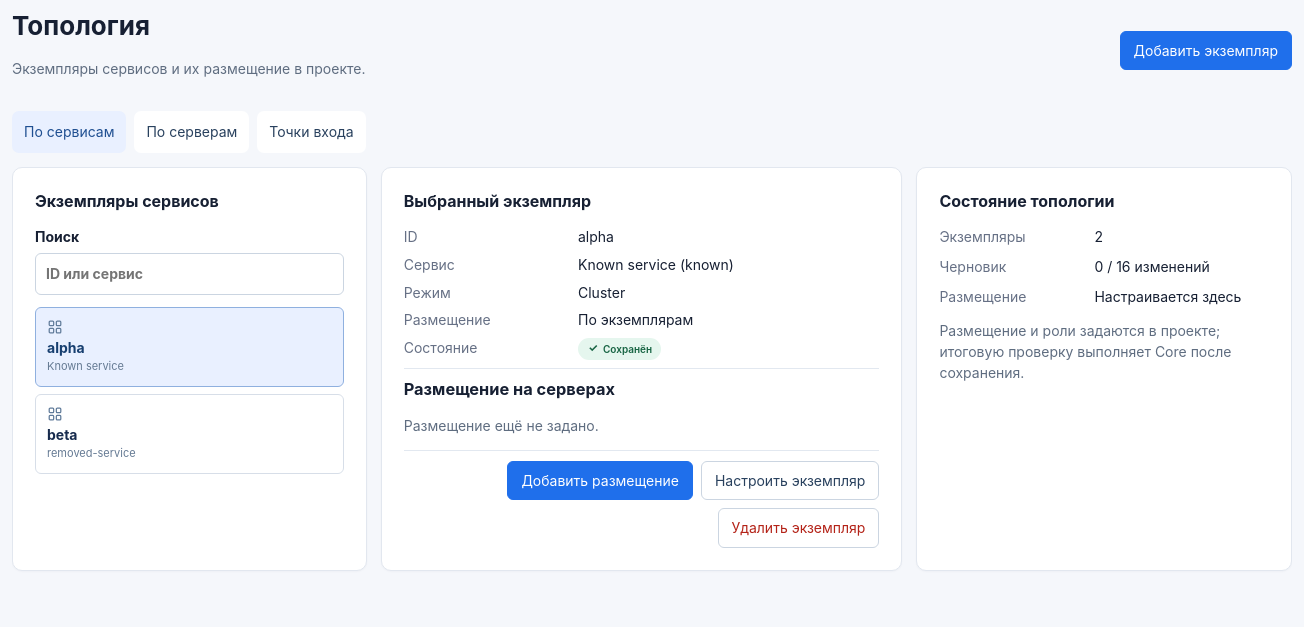
Test: UI-01F3 TopologyPage › keeps explicit selection while search temporarily hides it
This screenshot has width=1304, height=627.
Click the button "beta removed-service": (62, 434) top-left (35, 394), bottom-right (344, 474)
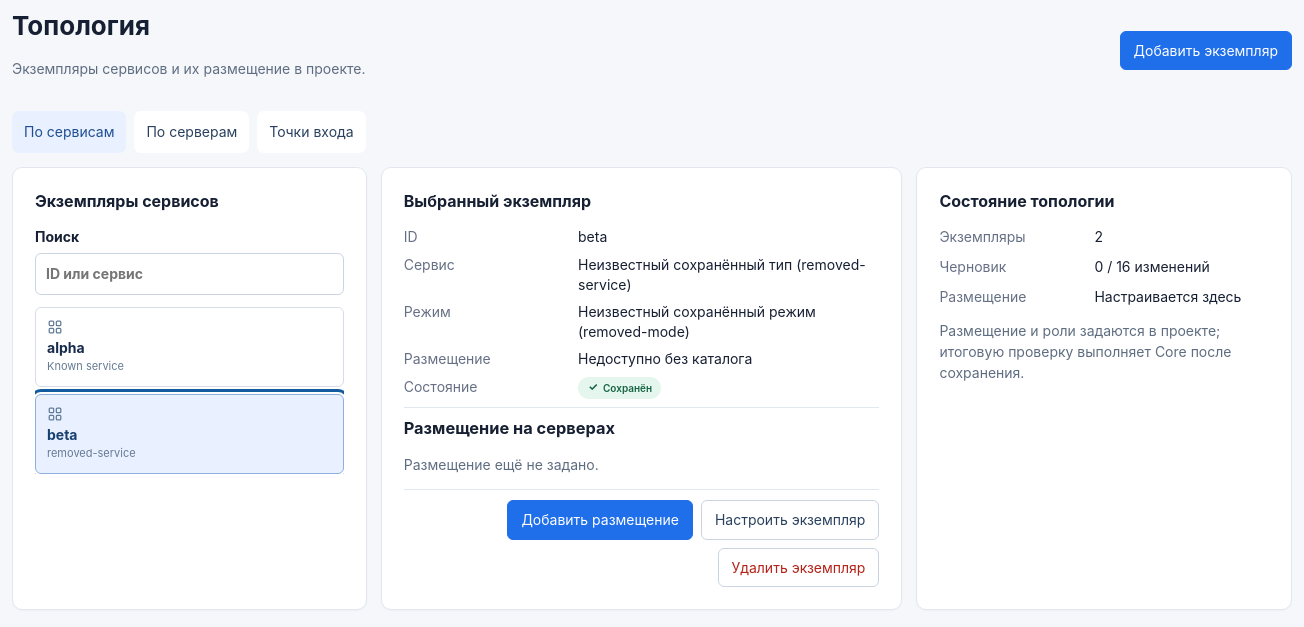
Expected: the text "Неизвестный сохранённый тип (removed-service)" is shown, top-left (578, 255), bottom-right (879, 294)
In the field labelled "Поиск": (189, 274) top-left (35, 253), bottom-right (344, 295), type "alpha"
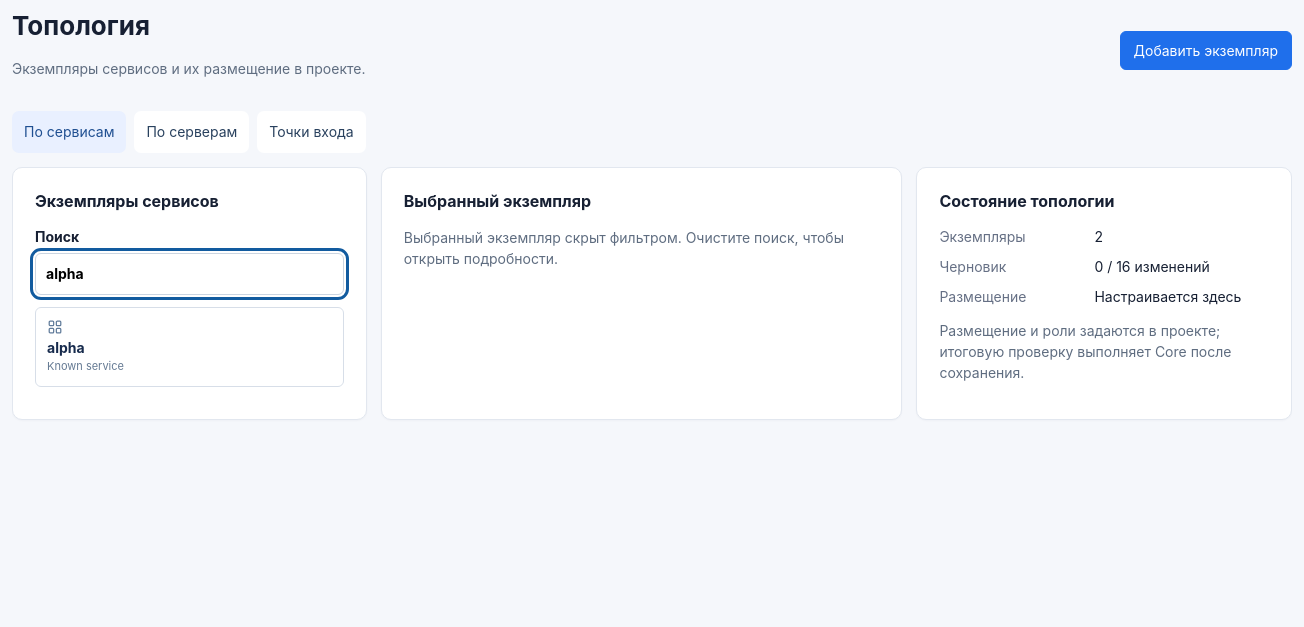
Expected: the text "Выбранный экземпляр скрыт фильтром. Очистите поиск, чтобы открыть подробности." is shown, top-left (404, 227), bottom-right (879, 269)
Clear the field labelled "Поиск": (189, 274) top-left (35, 253), bottom-right (344, 295)
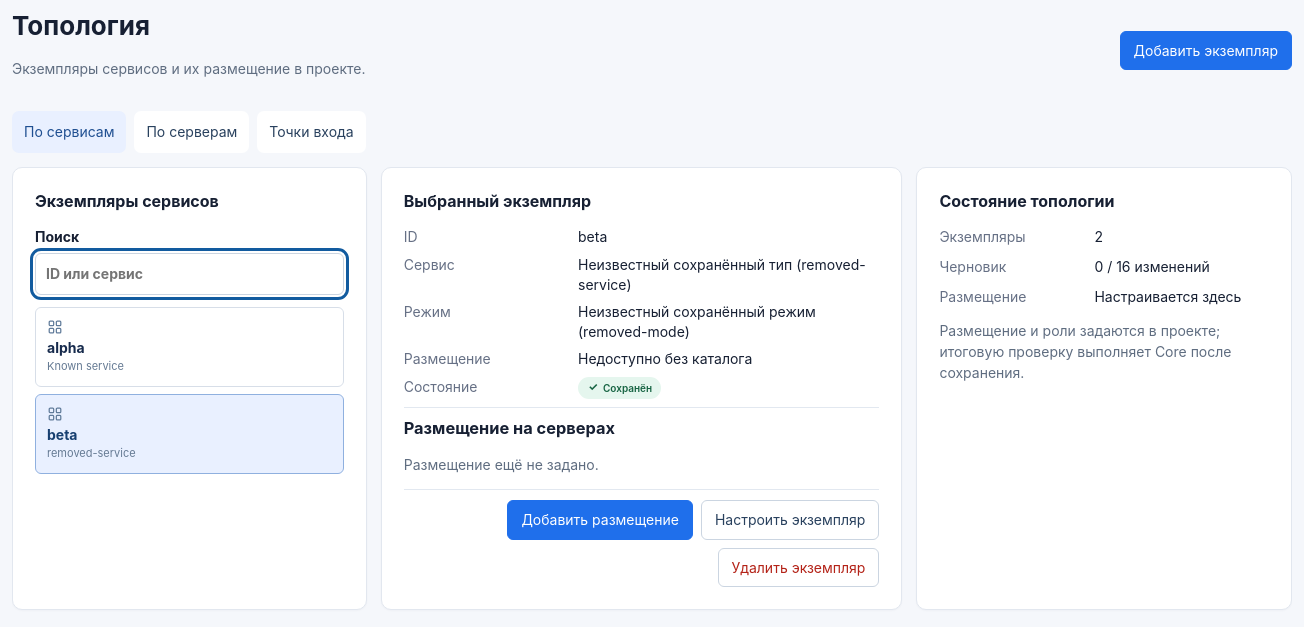
Expected: the text "Неизвестный сохранённый тип (removed-service)" is shown, top-left (578, 255), bottom-right (879, 294)
